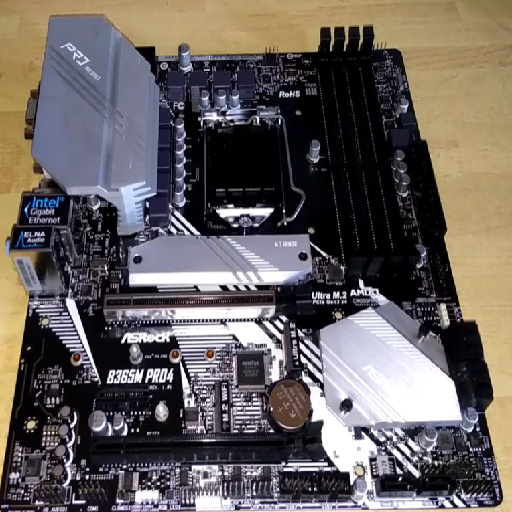CPU: (196, 93, 306, 230)
GPU: (78, 414, 331, 476), (102, 290, 324, 331)
MOTHERBOARD: (2, 9, 510, 510)
RAM: (308, 23, 415, 277)
SSD: (206, 371, 244, 435), (276, 317, 310, 384)
